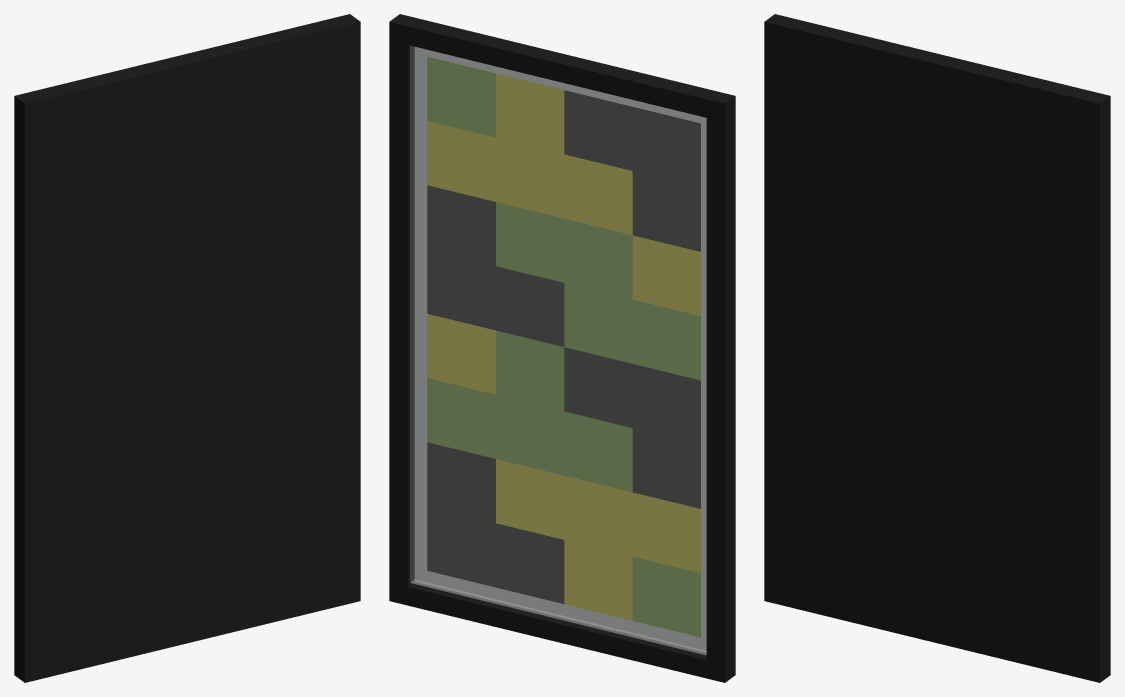
Rendered from WallArt05.glb.
3 renders of one model, left to right at view 1: azimuth 30°, elevation 25°; view 2: azimuth 150°, elevation 25°; view 3: azimuth 330°, elevation 25°, orthographic.
Parts seen in each view (by area): view 1: Node; view 2: Node; view 3: Node.
Boxes of the visible parts, x1=… form: Node: x1=14, y1=14, x2=360, y2=682; Node: x1=389, y1=14, x2=735, y2=682; Node: x1=764, y1=14, x2=1110, y2=682.
Size of the model in its own units: 0.54 by 0.89 by 0.03.
Materials: 2 (2 with a texture image).
